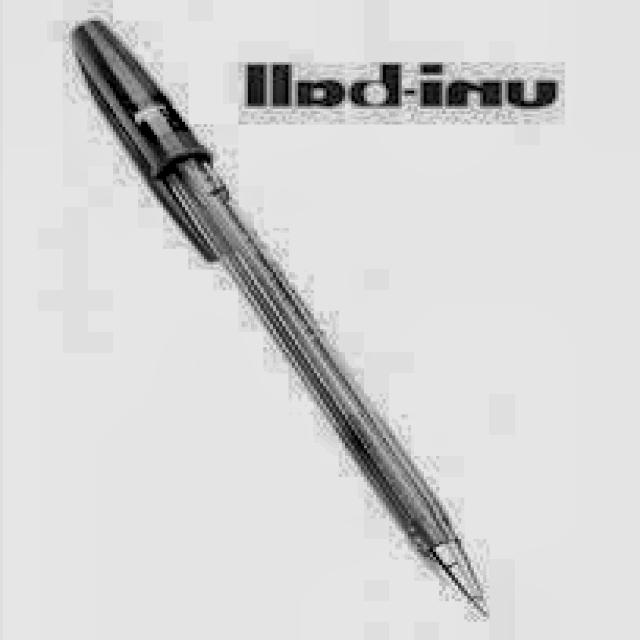Pen: (77, 14, 501, 628)
